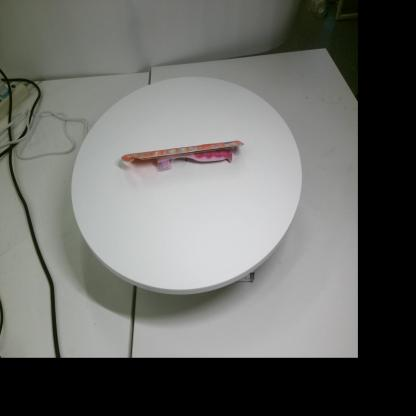Personal Hygiene: (121, 140, 244, 172)
